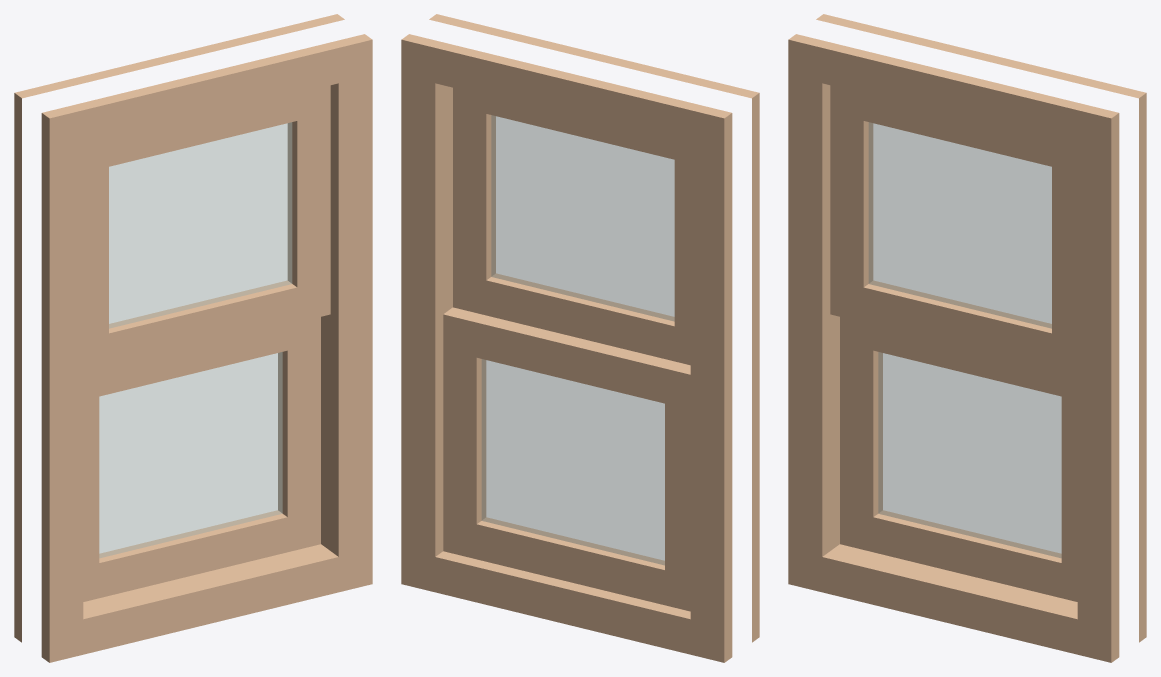
File: window_02.glb
The picture shows the model from 3 angles, left to right: view 1: azimuth 30°, elevation 25°; view 2: azimuth 150°, elevation 25°; view 3: azimuth 330°, elevation 25°; orthographic projection.
Parts seen in each view (by area): view 1: wallWindowSlide(Clone), windowTop, windowBottom; view 2: wallWindowSlide(Clone), windowBottom, windowTop; view 3: wallWindowSlide(Clone), windowTop, windowBottom.
Part boxes in pixels (x1=…): wallWindowSlide(Clone): x1=14, y1=14, x2=372, y2=662; windowTop: x1=83, y1=85, x2=330, y2=374; windowBottom: x1=83, y1=317, x2=320, y2=601; wallWindowSlide(Clone): x1=401, y1=14, x2=759, y2=662; windowBottom: x1=443, y1=307, x2=690, y2=611; windowTop: x1=453, y1=87, x2=690, y2=365; wallWindowSlide(Clone): x1=788, y1=14, x2=1146, y2=662; windowTop: x1=830, y1=85, x2=1077, y2=374; windowBottom: x1=840, y1=317, x2=1077, y2=601.
Bounding box in the file's own units: 0.474 × 0.7635 × 0.0891.
